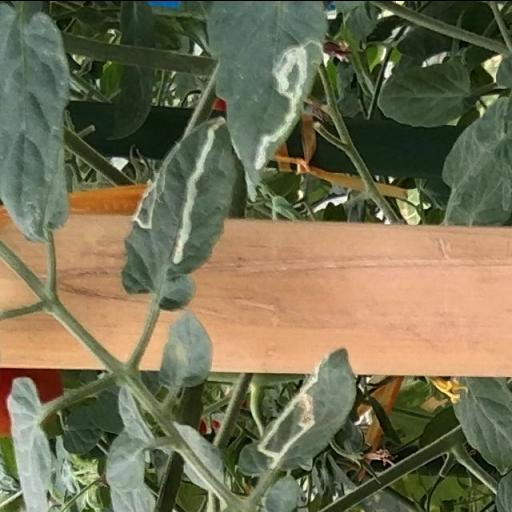Healthy: (374, 58, 474, 126)
Leaf Miner: (202, 0, 328, 194), (118, 114, 240, 314), (236, 342, 360, 476)
